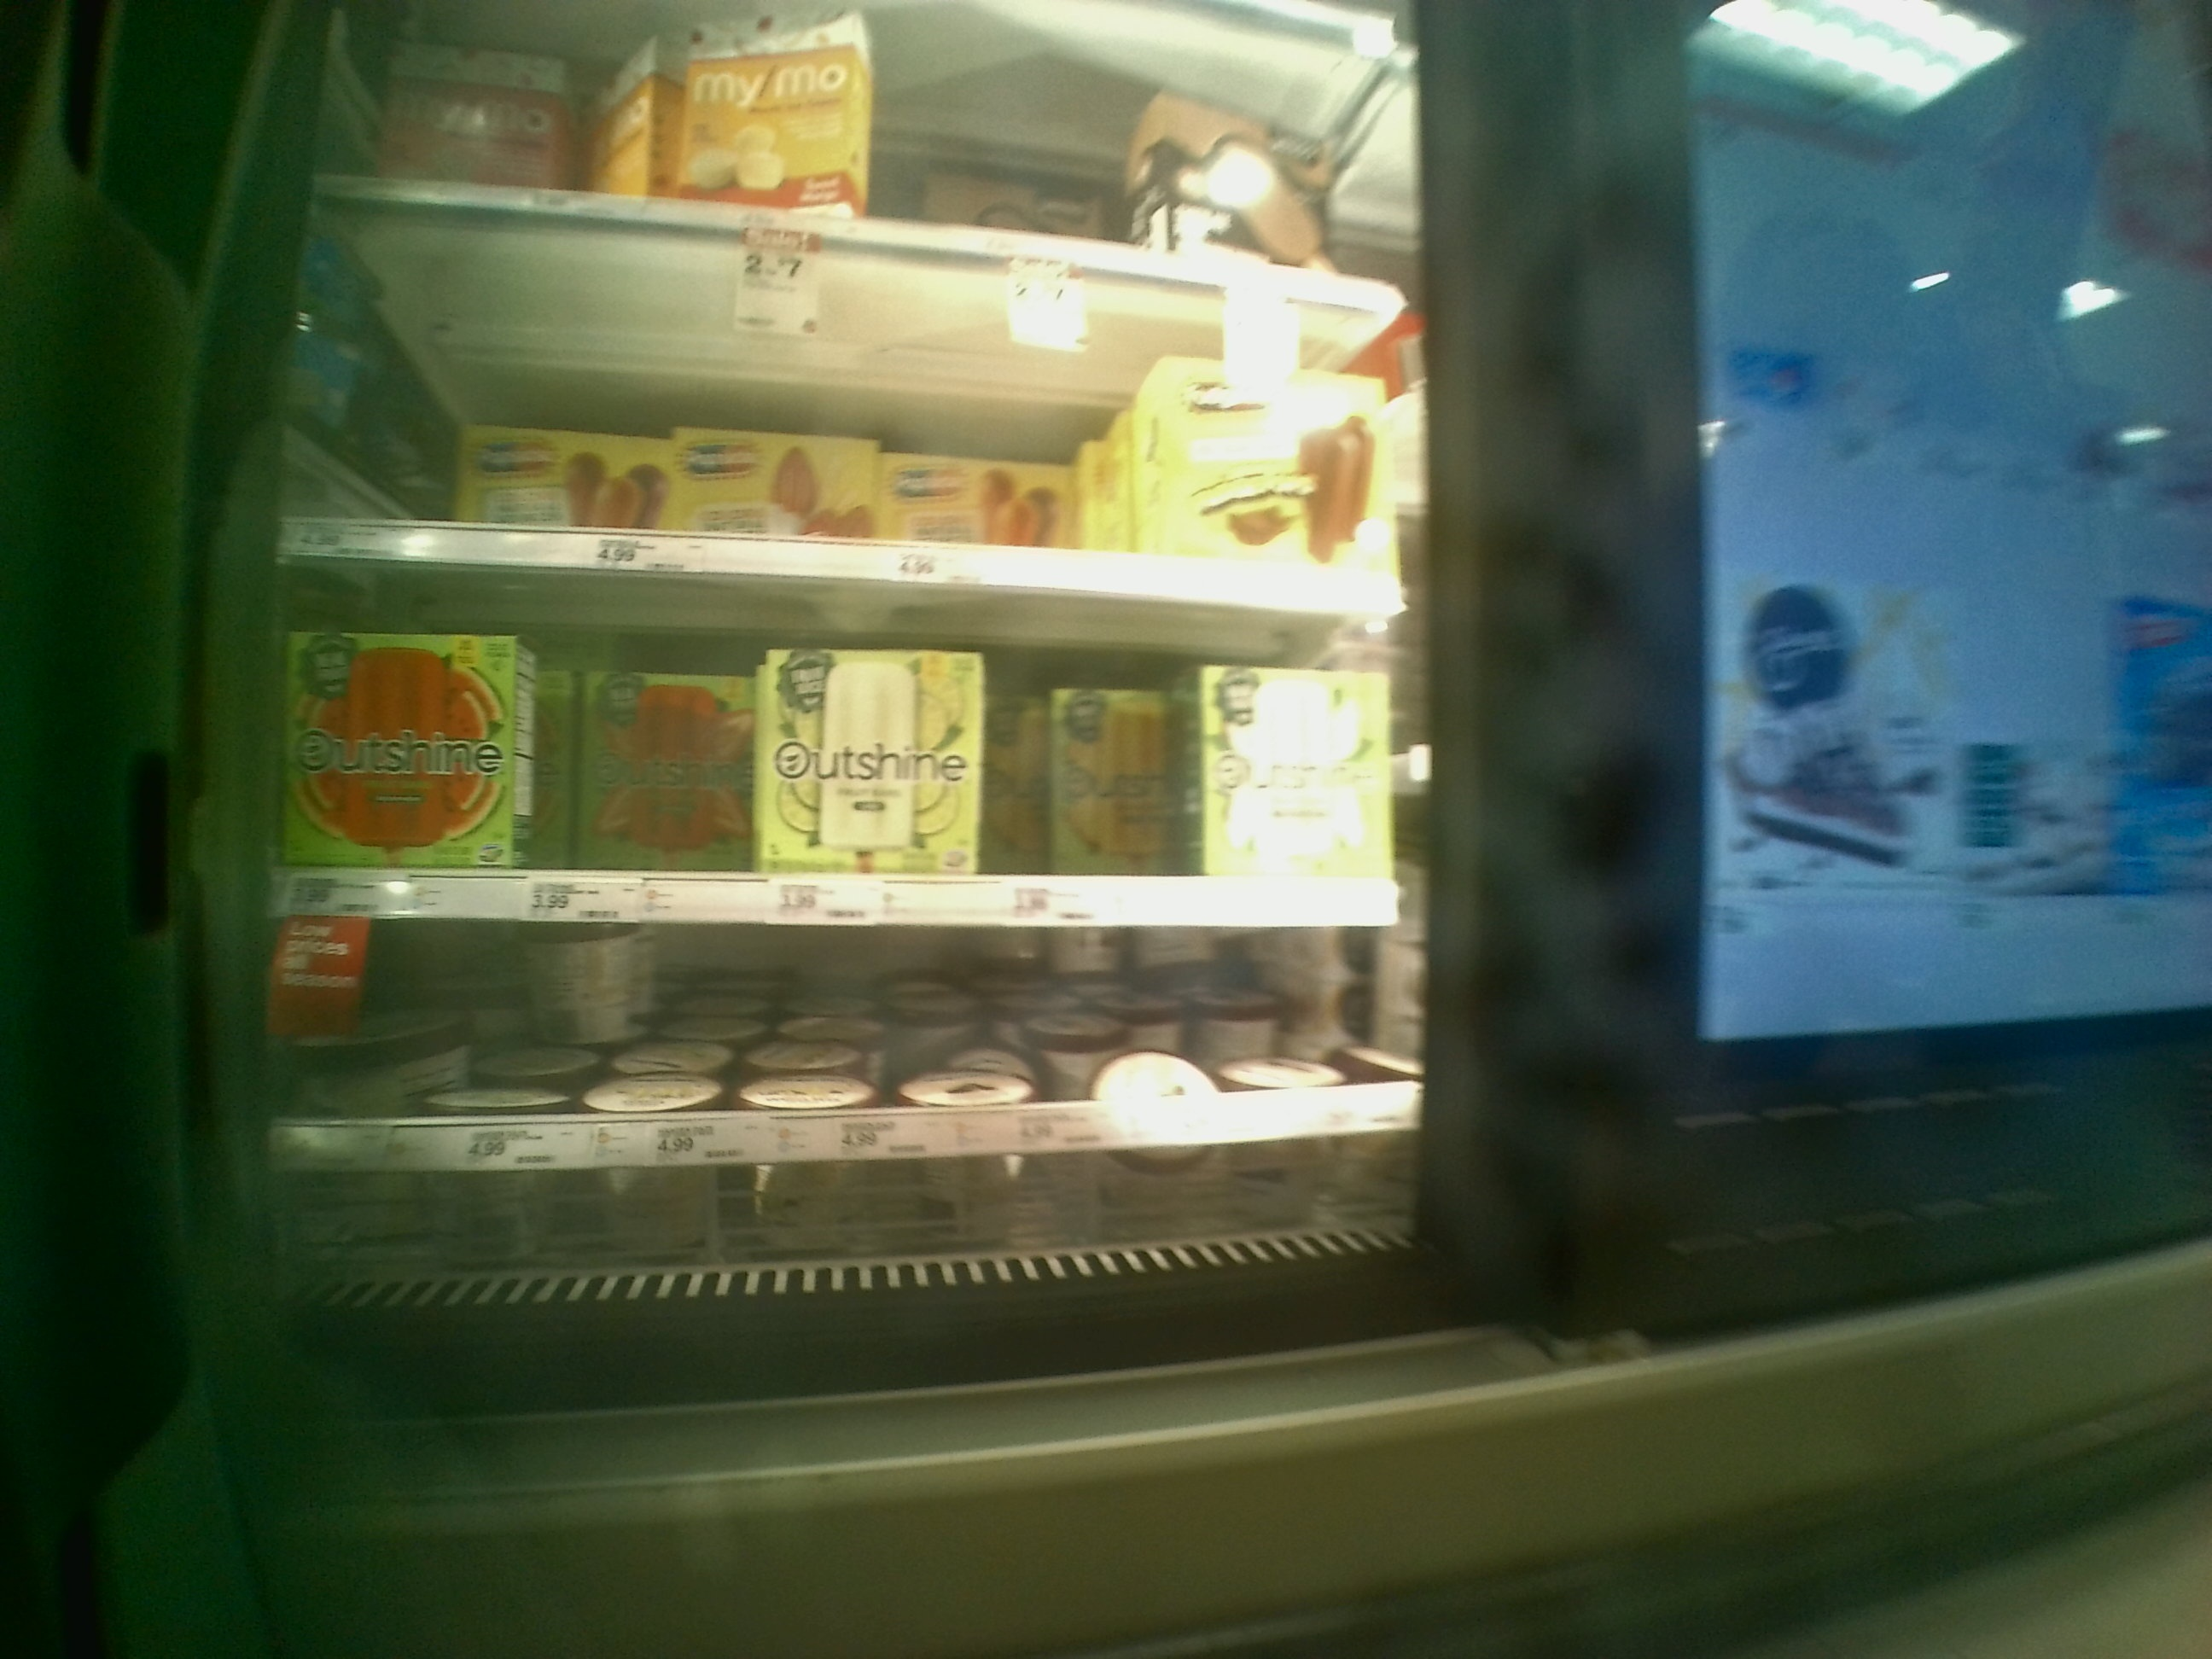shelf: (294, 181, 1400, 622), (289, 572, 1404, 927), (280, 922, 1418, 1213)
